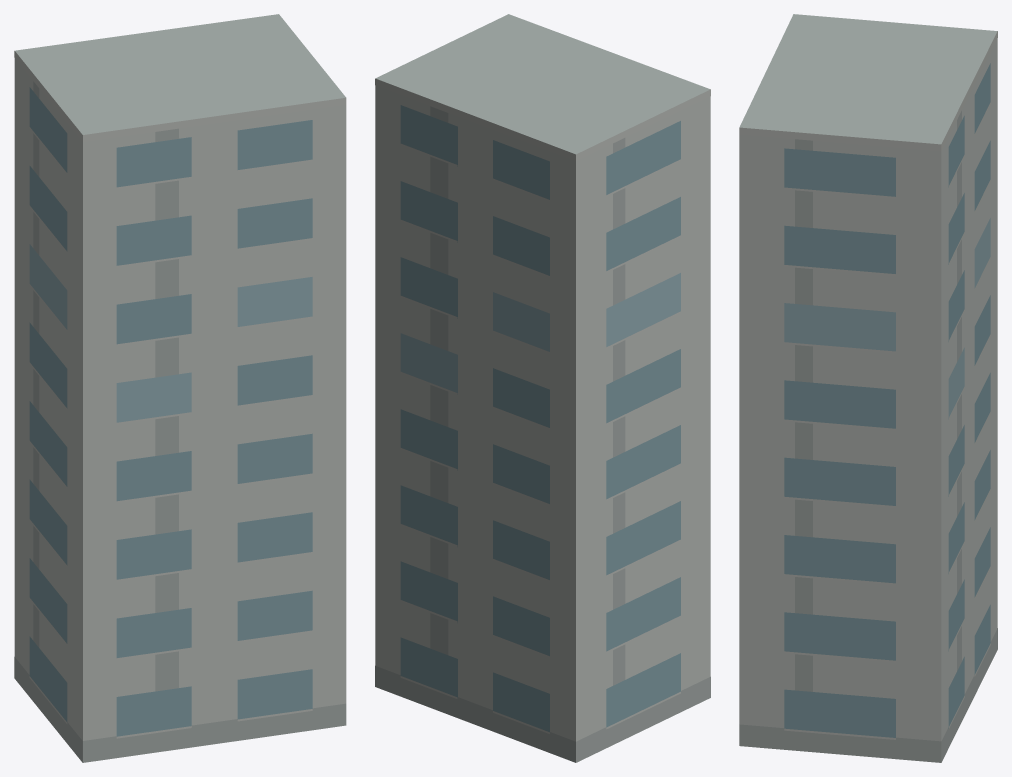
File: survey-upis-32906870.glb
3 views of the same model, side by side, from view 1: azimuth 30°, elevation 25°; view 2: azimuth 150°, elevation 25°; view 3: azimuth 270°, elevation 25° (orthographic). The views are drawn at different scales.
Visible parts, largest first — view 1: survey-upis-32906870.tmp; view 2: survey-upis-32906870.tmp; view 3: survey-upis-32906870.tmp.
Boxes of the visible parts, x1,y1,x2,y2 form: survey-upis-32906870.tmp: (14,14,346,762); survey-upis-32906870.tmp: (375,14,710,762); survey-upis-32906870.tmp: (739,14,997,762).
Bounding box in the file's own units: 9.68 × 21.4 × 8.11.
